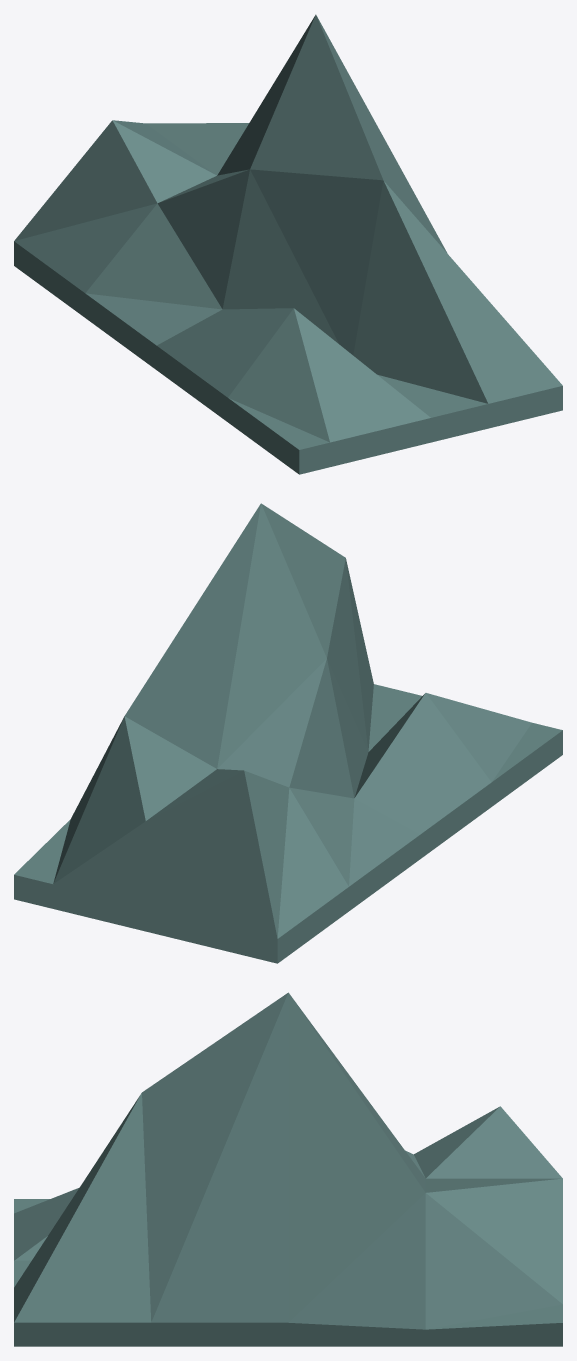
The model's file is mountain1.fbx.
The picture shows the model from 3 angles, top to bottom: view 1: azimuth 30°, elevation 25°; view 2: azimuth 150°, elevation 25°; view 3: azimuth 270°, elevation 25°; orthographic projection. The views are drawn at different scales.
Visible parts, largest first — view 1: Cube.012; view 2: Cube.012; view 3: Cube.012.
Boxes of the visible parts, left/top/right/bottom form: Cube.012: left=14, top=14, right=562, bottom=474; Cube.012: left=14, top=503, right=562, bottom=963; Cube.012: left=14, top=992, right=562, bottom=1346.
Size of the model in its own units: 668 by 727 by 1186.
